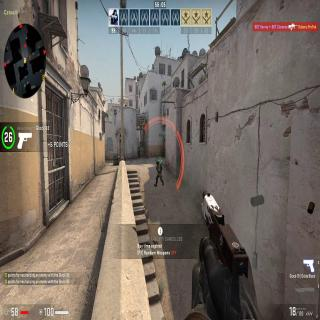CT-Body: (154, 159, 162, 183), (138, 146, 140, 158)
CT-Head: (156, 159, 160, 165), (138, 146, 140, 149)
